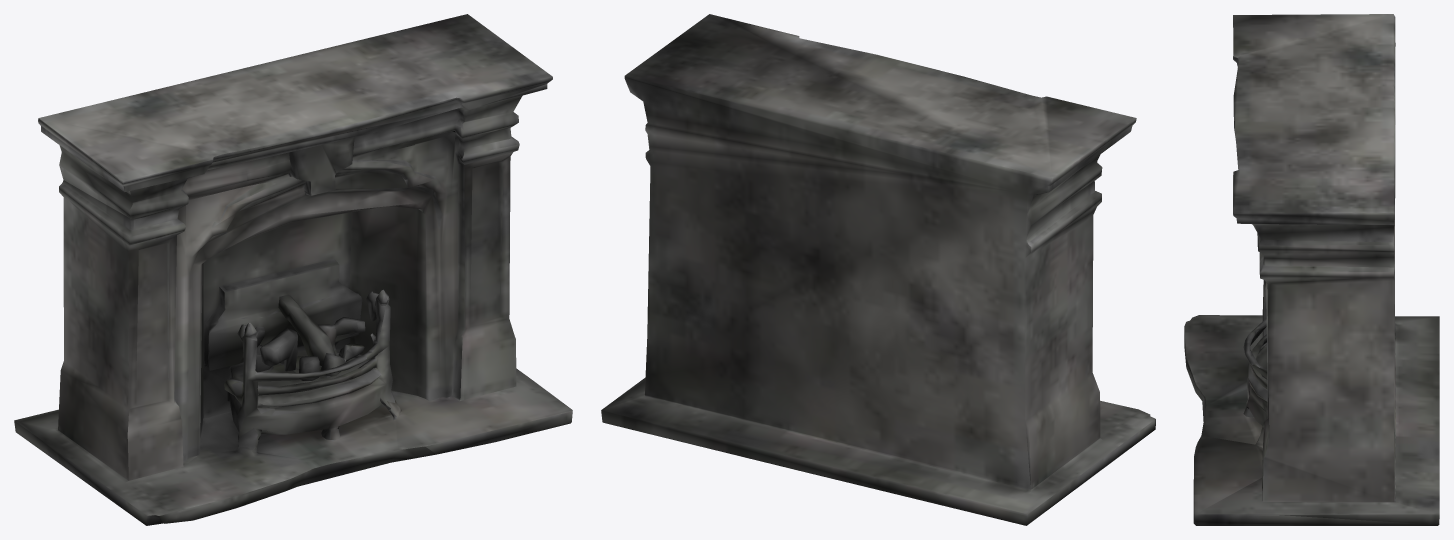
Rendered from ornate-granite-fireplace-v001.glb.
The picture shows the model from 3 angles, left to right: view 1: azimuth 30°, elevation 25°; view 2: azimuth 150°, elevation 25°; view 3: azimuth 270°, elevation 25°; orthographic projection. The views are drawn at different scales.
Parts seen in each view (by area): view 1: ornate-granite-fireplace; view 2: ornate-granite-fireplace; view 3: ornate-granite-fireplace.
Part boxes in pixels (box(x1,y1,x2,y2)): ornate-granite-fireplace: box(14, 14, 572, 525); ornate-granite-fireplace: box(601, 14, 1155, 525); ornate-granite-fireplace: box(1184, 14, 1439, 525).
Size of the model in its own units: 2.51 by 1.86 by 1.36.
1 material, 1 textured.
